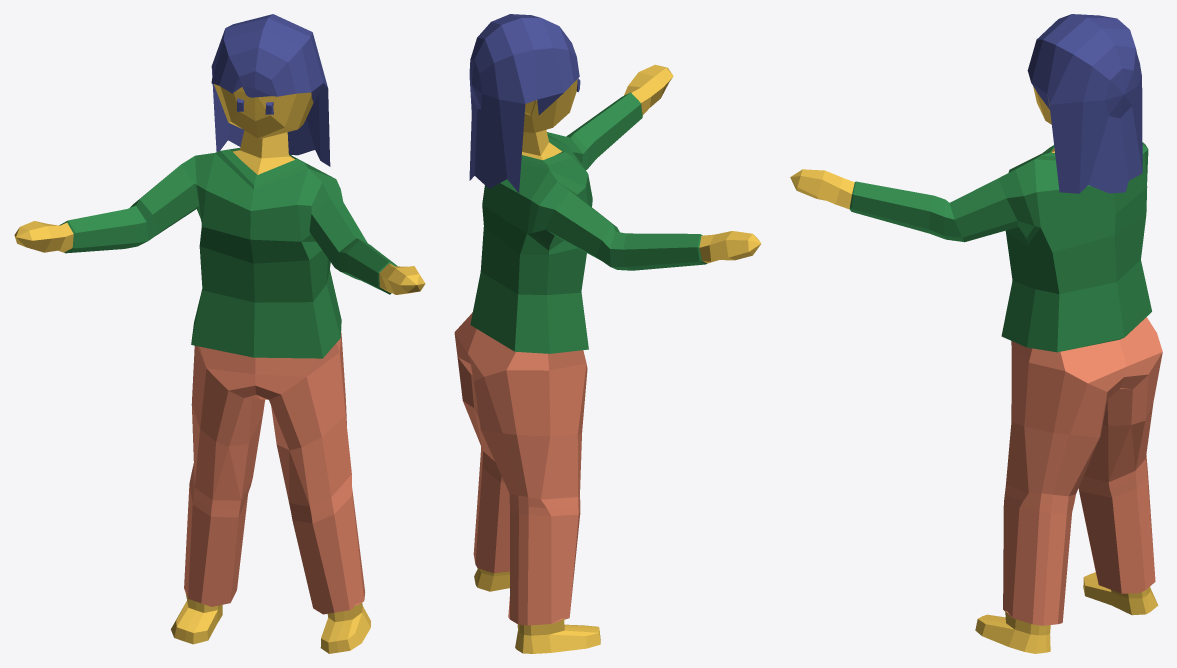
The model's file is 092_店員(Woman).glb.
The picture shows the model from 3 angles, left to right: view 1: azimuth 30°, elevation 25°; view 2: azimuth 150°, elevation 25°; view 3: azimuth 270°, elevation 25°; orthographic projection.
Visible parts, largest first — view 1: 立方体027_4, 立方体027_2, 立方体027, 立方体027_1, 立方体027_3; view 2: 立方体027_2, 立方体027_4, 立方体027, 立方体027_1, 立方体027_3; view 3: 立方体027_2, 立方体027_4, 立方体027, 立方体027_1, 立方体027_3.
Boxes of the visible parts, x1,y1,x2,y2 form: 立方体027_4: (59,148,397,358); 立方体027_2: (184,332,365,614); 立方体027: (211,14,330,166); 立方体027_1: (171,84,370,653); 立方体027_3: (14,221,425,294); 立方体027_2: (454,312,587,625); 立方体027_4: (470,92,707,353); 立方体027: (469,14,580,192); 立方体027_1: (474,79,600,653); 立方体027_3: (624,64,761,263); 立方体027_2: (1003,317,1162,625); 立方体027_4: (849,142,1151,352); 立方体027: (1027,14,1142,193); 立方体027_1: (975,86,1158,653); 立方体027_3: (790,169,854,209).
Bounding box in the file's own units: 1.13 × 2.04 × 1.13.
